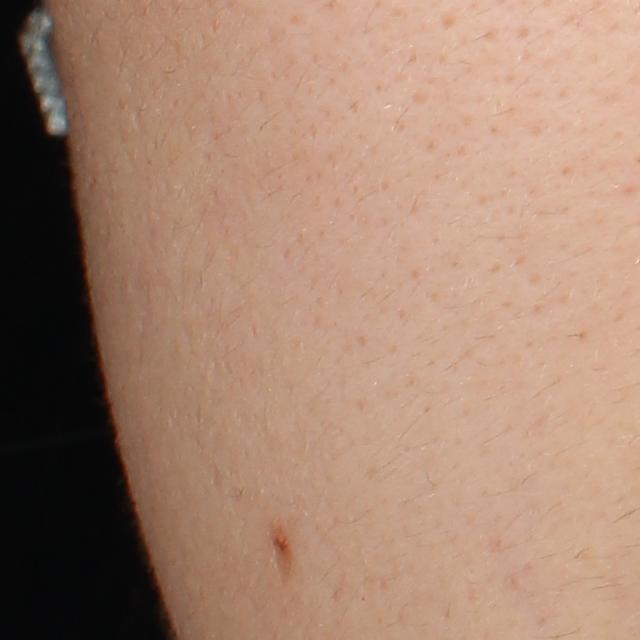nevus: (264, 519, 302, 578)
